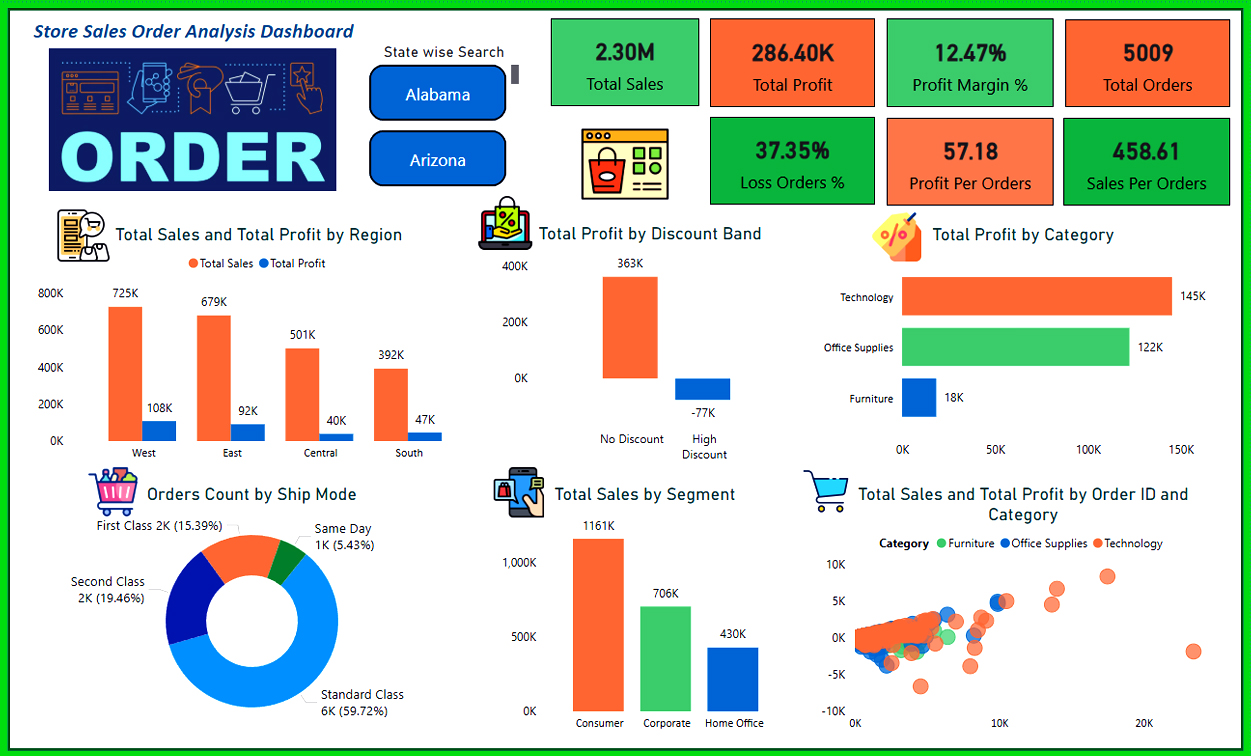

The dashboard page shown, as its layout file describes it:
{"tool":"powerbi","page":{"name":"StoreSales","canvas":[1295,780],"ordinal":0},"visuals":[{"type":"card","fields":{"Values":["Sales_csv.Total Sales"]},"box":[570.8,15.7,154.2,91.4],"z":0},{"type":"card","fields":{"Values":["Sales_csv.Total Profit"]},"box":[736,16,171,92],"z":1000},{"type":"card","fields":{"Values":["Sales_csv.Profit Margin %"]},"box":[919,16,173,92],"z":2000},{"type":"card","fields":{"Values":["Sales_csv.Total Orders"]},"box":[1104,17,171,91],"z":3000},{"type":"card","fields":{"Values":["Sales_csv.Loss Orders %"]},"box":[736,118,171,91],"z":4000},{"type":"card","fields":{"Values":["Sales_csv.Sales Per Orders"]},"box":[1102,119,173,91],"z":5000},{"type":"card","fields":{"Values":["Sales_csv.Profit Per Orders"]},"box":[919,119,173,91],"z":6000},{"type":"clusteredColumnChart","fields":{"Category":["Sales_csv.Region"],"Y":["Sales_csv.Total Sales","Sales_csv.Total Profit"]},"box":[34,229,469,253],"z":7000},{"type":"columnChart","fields":{"Category":["Sales_csv.Discount Band"],"Y":["Sales_csv.Total Profit"]},"box":[515,228,318,255],"z":8000},{"type":"barChart","fields":{"Category":["Sales_csv.Category"],"Y":["Sales_csv.Total Profit"]},"box":[846,229,429,252],"z":9000},{"type":"donutChart","fields":{"Y":["Sales_csv.Orders Count"],"Category":["Sales_csv.Ship Mode"]},"box":[34,498,455,264],"z":10000},{"type":"columnChart","fields":{"Category":["Sales_csv.Segment"],"Y":["Sales_csv.Total Sales"]},"box":[515,498,307,264],"z":11000},{"type":"scatterChart","fields":{"X":["Sales_csv.Total Sales"],"Y":["Sales_csv.Total Profit"],"Category":["Sales_csv.Order ID"],"Series":["Sales_csv.Category"]},"box":[846,498,429,264],"z":12000},{"type":"image","box":[48.1,47.2,303.6,148.3],"z":13000},{"type":"shape","box":[31.4,12.8,339.9,32.4],"z":14000},{"type":"image","box":[590.4,114,114.9,106.1],"z":15000},{"type":"image","box":[58.9,209.2,56,63.9],"z":16000},{"type":"image","box":[496.1,196.5,56,63.9],"z":17000},{"type":"image","box":[903.6,210,51.8,63.6],"z":18000},{"type":"image","box":[91.8,474.5,50.9,63.6],"z":19000},{"type":"image","box":[510,474.5,56.4,63.6],"z":20000},{"type":"image","box":[822.2,474.5,67.8,63.9],"z":21000},{"type":"advancedSlicerVisual","title":"State wise Search","fields":{"Values":["Sales_csv.State"]},"box":[378.2,41.3,165,153.2],"z":22000},{"type":"shape","box":[7.9,5,1281.4,770],"z":23000}]}

Visuals, with their boxes in screenshot pixels (x1, y1, x2, y2), scaled from the page's 1295x780 canvas onto the 1251x756 screenshot:
card - Sales_csv.Total Sales: [551,15,700,104]
card - Sales_csv.Total Profit: [711,16,876,105]
card - Sales_csv.Profit Margin %: [888,16,1055,105]
card - Sales_csv.Total Orders: [1066,16,1232,105]
card - Sales_csv.Loss Orders %: [711,114,876,203]
card - Sales_csv.Sales Per Orders: [1065,115,1232,204]
card - Sales_csv.Profit Per Orders: [888,115,1055,204]
clusteredColumnChart - Sales_csv.Region x Sales_csv.Total Sales: [33,222,486,467]
columnChart - Sales_csv.Discount Band x Sales_csv.Total Profit: [498,221,805,468]
barChart - Sales_csv.Category x Sales_csv.Total Profit: [817,222,1232,466]
donutChart - Sales_csv.Orders Count x Sales_csv.Ship Mode: [33,483,472,739]
columnChart - Sales_csv.Segment x Sales_csv.Total Sales: [498,483,794,739]
scatterChart - Sales_csv.Total Sales x Sales_csv.Total Profit: [817,483,1232,739]
image: [46,46,340,189]
shape: [30,12,359,44]
image: [570,110,681,213]
image: [57,203,111,265]
image: [479,190,533,252]
image: [873,204,923,265]
image: [89,460,138,522]
image: [493,460,547,522]
image: [794,460,860,522]
"State wise Search" advancedSlicerVisual: [365,40,525,189]
shape: [8,5,1245,751]
